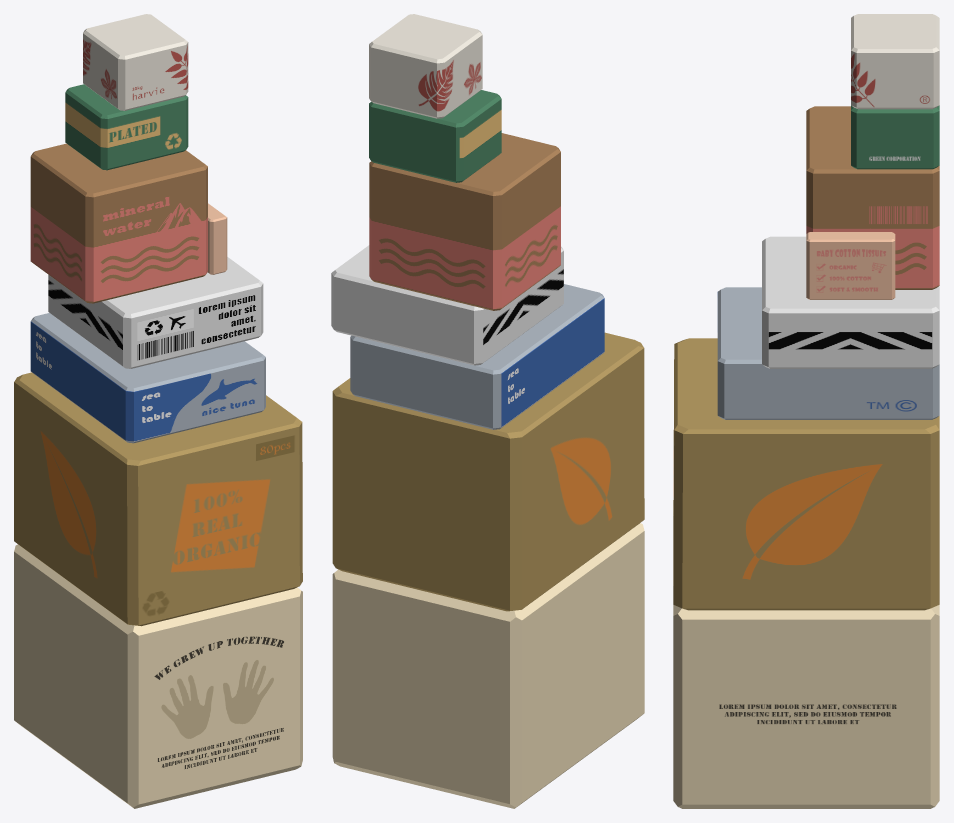
File: 빵구간 박스더미.fbx
The picture shows the model from 3 angles, left to right: view 1: azimuth 30°, elevation 25°; view 2: azimuth 150°, elevation 25°; view 3: azimuth 270°, elevation 25°; orthographic projection. The views are drawn at different scales.
Parts seen in each view (by area): view 1: Box002, Box001, Box006, Box003, Box004, Box008, Box007, Box005; view 2: Box001, Box002, Box006, Box003, Box004, Box008, Box007; view 3: Box002, Box001, Box004, Box003, Box006, Box008, Box005, Box007.
Part boxes in pixels (bbox=[...]): Box002: bbox=[14, 372, 302, 626]; Box001: bbox=[14, 544, 302, 808]; Box006: bbox=[30, 143, 207, 303]; Box003: bbox=[30, 313, 265, 443]; Box004: bbox=[48, 257, 263, 368]; Box008: bbox=[83, 14, 188, 110]; Box007: bbox=[65, 84, 188, 170]; Box005: bbox=[208, 203, 227, 274]; Box001: bbox=[332, 523, 644, 808]; Box002: bbox=[332, 332, 644, 611]; Box006: bbox=[369, 133, 560, 310]; Box003: bbox=[350, 284, 604, 429]; Box004: bbox=[331, 245, 563, 365]; Box008: bbox=[369, 14, 482, 118]; Box007: bbox=[369, 90, 501, 182]; Box002: bbox=[673, 338, 939, 610]; Box001: bbox=[673, 605, 939, 808]; Box004: bbox=[762, 236, 939, 368]; Box003: bbox=[717, 287, 939, 419]; Box006: bbox=[806, 106, 939, 289]; Box008: bbox=[851, 14, 939, 109]; Box005: bbox=[806, 232, 895, 299]; Box007: bbox=[851, 105, 939, 169].
Size of the model in its own units: 500 by 1850 by 600.
